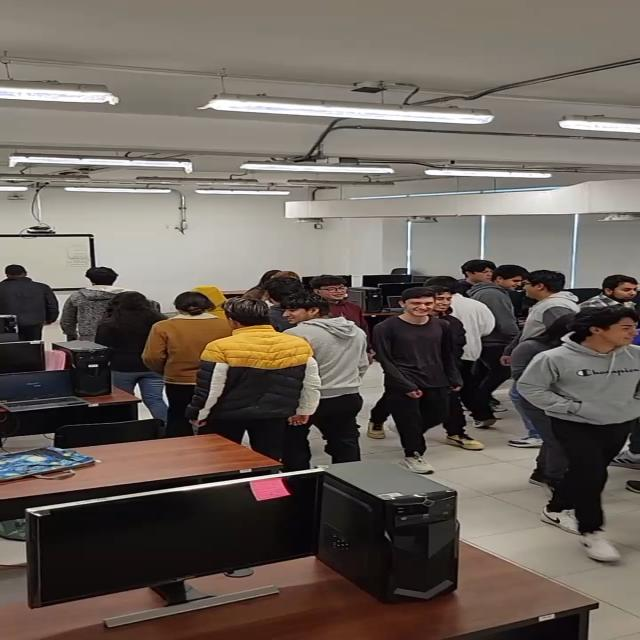Persona: (515, 309, 640, 566), (280, 296, 379, 465), (379, 292, 460, 463), (210, 301, 294, 444), (155, 293, 227, 404), (68, 260, 120, 356), (105, 294, 164, 376), (3, 266, 58, 336), (512, 264, 571, 321)
